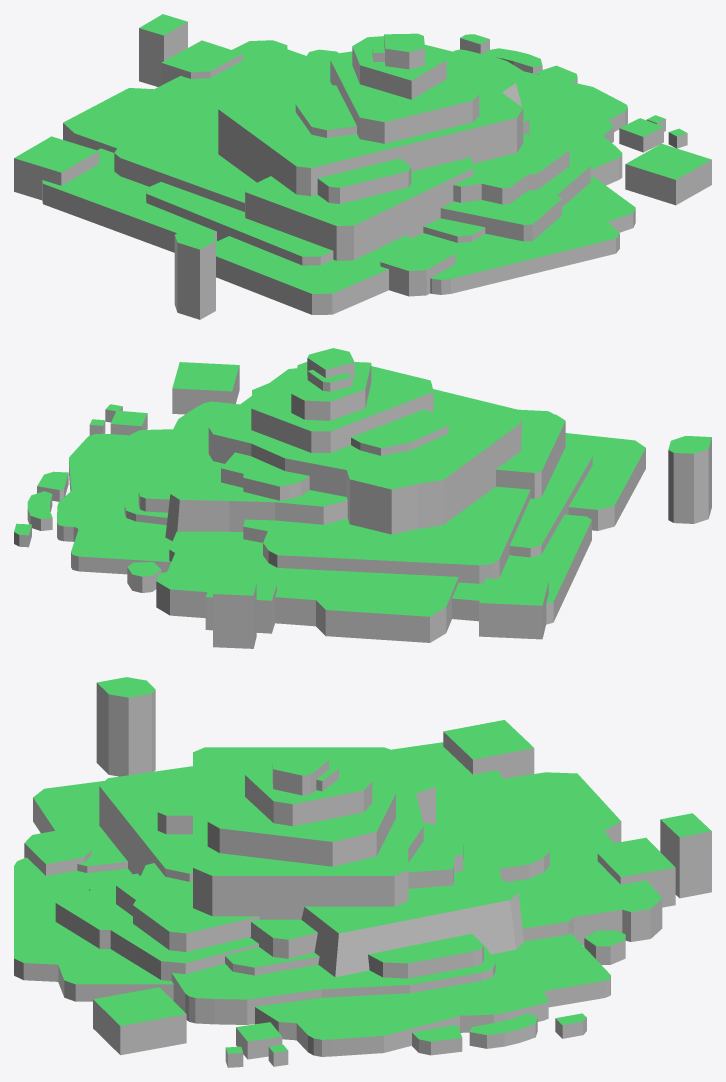
File: mountain_01_boolean.fbx
3 views of the same model, one above another, from view 1: azimuth 30°, elevation 25°; view 2: azimuth 150°, elevation 25°; view 3: azimuth 270°, elevation 25° (orthographic). The views are drawn at different scales.
Parts seen in each view (by area): view 1: mountain_01_boolean; view 2: mountain_01_boolean; view 3: mountain_01_boolean.
Boxes of the visible parts, box(x1,y1,x2,y2) form: mountain_01_boolean: box(14, 14, 711, 319); mountain_01_boolean: box(14, 348, 711, 648); mountain_01_boolean: box(14, 677, 711, 1067).
Bounding box in the file's own units: 12655 × 3097 × 12033.
